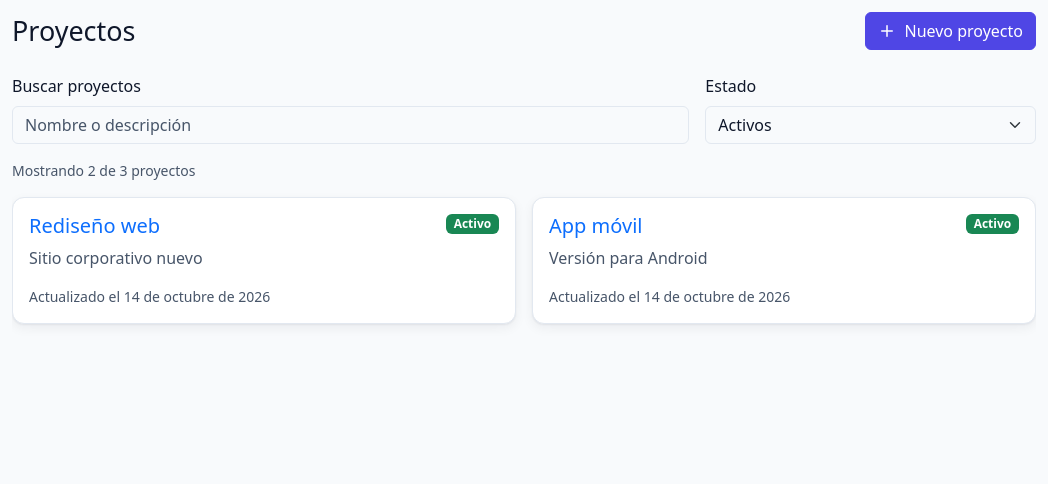
Test: PaginaProyectos › sin coincidencias ofrece limpiar los filtros
Type "zzz" into the search field labelled "Buscar proyectos".
click(351, 125); type("zzz")  # box [12,106,689,144]
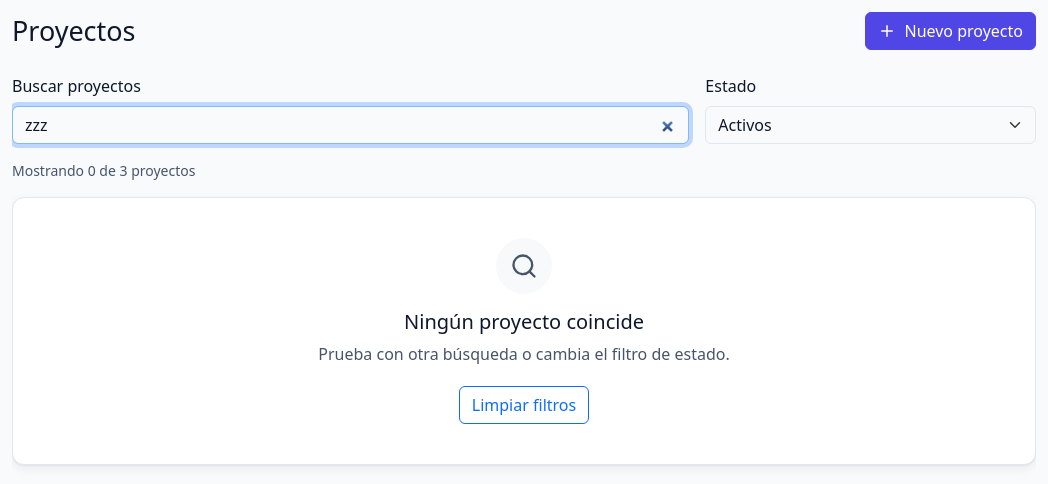
Now the heading "Ningún proyecto coincide" is shown, box [404,308,644,335]
Click the button "Limpiar filtros".
click(524, 405)  # box [459,386,589,424]
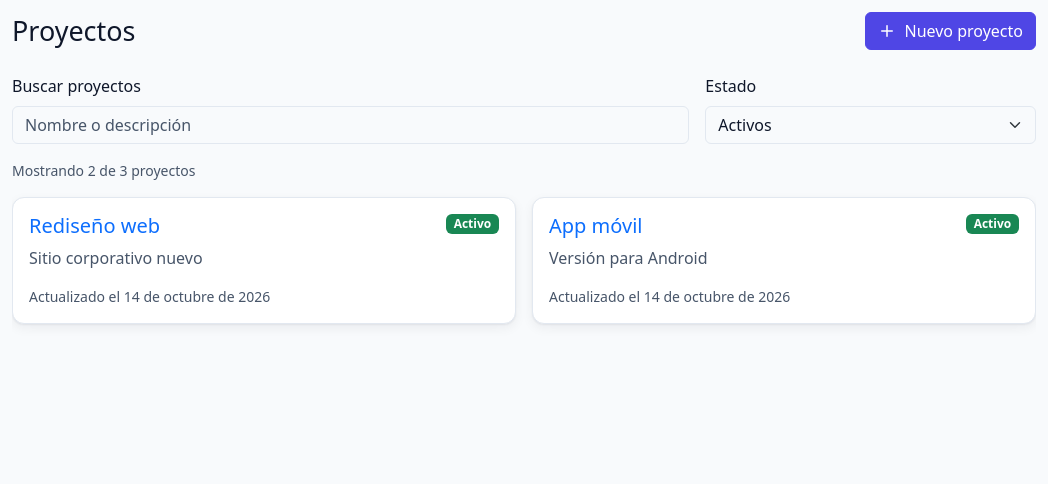
Now the link "Rediseño web" is shown, box [29,212,160,239]
Now the search field labelled "Buscar proyectos" is empty, box [12,106,689,144]
